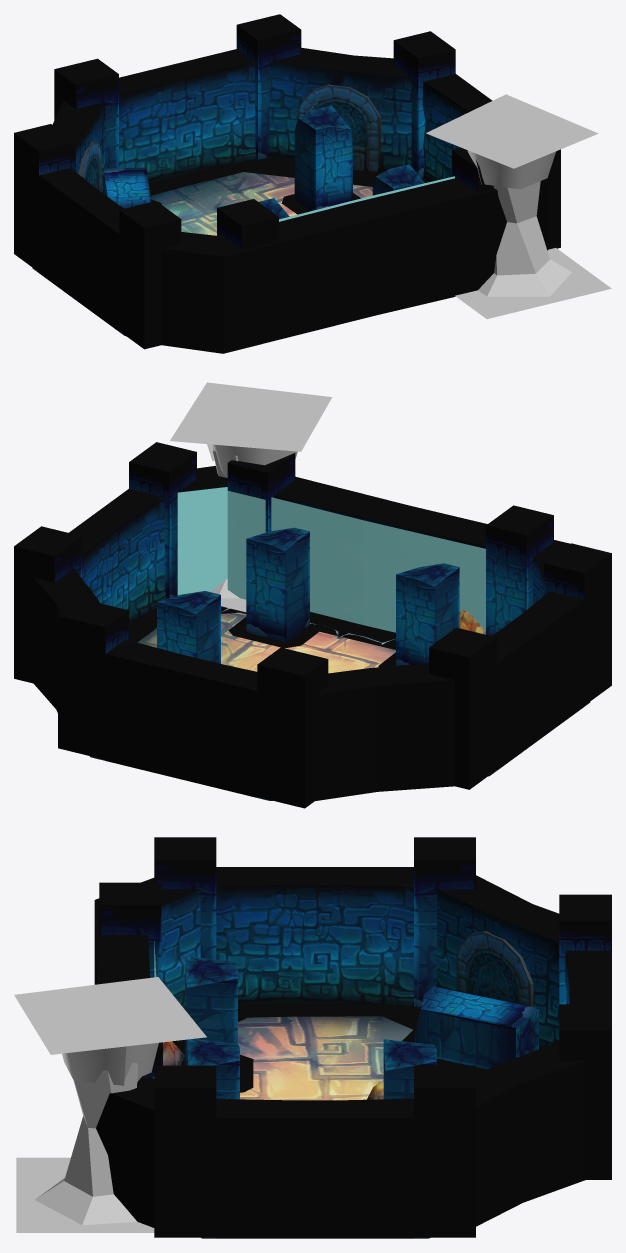
The model's file is Dungeon_051_RoadT_002.fbx.
3 renders of one model, top to bottom at view 1: azimuth 30°, elevation 25°; view 2: azimuth 150°, elevation 25°; view 3: azimuth 270°, elevation 25°, orthographic. The views are drawn at different scales.
Visible parts, largest first — view 1: Dun_051_RoadT_002_Wall, Dun_051_RoadT_002_Pillar, Dun_051_Door_002 (×3), Dungeon_021_Object_010, Dun_051_Obj01_Pillar (×2), Dungeon_021_Object_011, Dun_051_RoadT_002_Ground, Dun_051_RoadT_002_Wallobject, Dangeonpats_001_shadow_002, Dun_051_RoadT_002_shadow, Dun_011_Door_002_shadow, Dun_051_RoadT_002_GroundWater_Terikaeshi; view 2: Dun_051_RoadT_002_Pillar, Dun_051_Door_002 (×3), Dun_051_RoadT_002_Wall, Dun_051_RoadT_002_GroundWater_Terikaeshi, Dun_051_Obj01_Pillar (×3), Dungeon_021_Object_010, Dun_051_RoadT_002_Ground, Dun_051_RoadT_002_shadow, Dun_051_Obj01_Pillar_Shadow; view 3: Dun_051_Door_002 (×3), Dun_051_RoadT_002_Pillar, Dun_051_RoadT_002_Wall, Dungeon_021_Object_010, Dun_051_RoadT_002_Ground, Dun_051_Obj01_Pillar (×3), Dungeon_021_Object_011, Dun_051_RoadT_002_Wallobject, Dangeonpats_001_shadow_002, Dun_011_Door_002_shadow, Dun_051_RoadT_002_shadow.
Part boxes in pixels (x1,y1,x2,y2): Dun_051_RoadT_002_Wall: [52, 47, 547, 353]; Dun_051_RoadT_002_Pillar: [14, 14, 560, 349]; Dun_051_Door_002 (×3): [39, 49, 492, 331]; Dungeon_021_Object_010: [426, 94, 598, 189]; Dun_051_Obj01_Pillar (×2): [294, 105, 424, 211]; Dungeon_021_Object_011: [478, 181, 571, 296]; Dun_051_RoadT_002_Ground: [32, 172, 372, 335]; Dun_051_RoadT_002_Wallobject: [78, 84, 380, 192]; Dangeonpats_001_shadow_002: [455, 248, 611, 318]; Dun_051_RoadT_002_shadow: [150, 157, 429, 204]; Dun_011_Door_002_shadow: [148, 165, 243, 195]; Dun_051_RoadT_002_GroundWater_Terikaeshi: [279, 176, 454, 221]; Dun_051_RoadT_002_Pillar: [14, 442, 611, 808]; Dun_051_Door_002 (×3): [69, 488, 584, 797]; Dun_051_RoadT_002_Wall: [33, 466, 570, 800]; Dun_051_RoadT_002_GroundWater_Terikaeshi: [177, 487, 485, 632]; Dun_051_Obj01_Pillar (×3): [157, 527, 459, 665]; Dungeon_021_Object_010: [170, 382, 332, 476]; Dun_051_RoadT_002_Ground: [90, 612, 590, 800]; Dun_051_RoadT_002_shadow: [147, 606, 395, 649]; Dun_051_Obj01_Pillar_Shadow: [228, 617, 318, 648]; Dun_051_Door_002 (×3): [216, 867, 611, 1238]; Dun_051_RoadT_002_Pillar: [99, 837, 611, 1237]; Dun_051_RoadT_002_Wall: [94, 875, 585, 1227]; Dungeon_021_Object_010: [14, 977, 206, 1085]; Dun_051_RoadT_002_Ground: [201, 1016, 430, 1238]; Dun_051_Obj01_Pillar (×3): [185, 956, 436, 1099]; Dungeon_021_Object_011: [35, 1060, 141, 1224]; Dun_051_RoadT_002_Wallobject: [456, 931, 533, 1006]; Dangeonpats_001_shadow_002: [16, 1157, 154, 1232]; Dun_011_Door_002_shadow: [248, 1003, 382, 1017]; Dun_051_RoadT_002_shadow: [172, 1004, 486, 1074].
Size of what is drawn, in the model's own units: 9 by 3.03 by 9.07.
